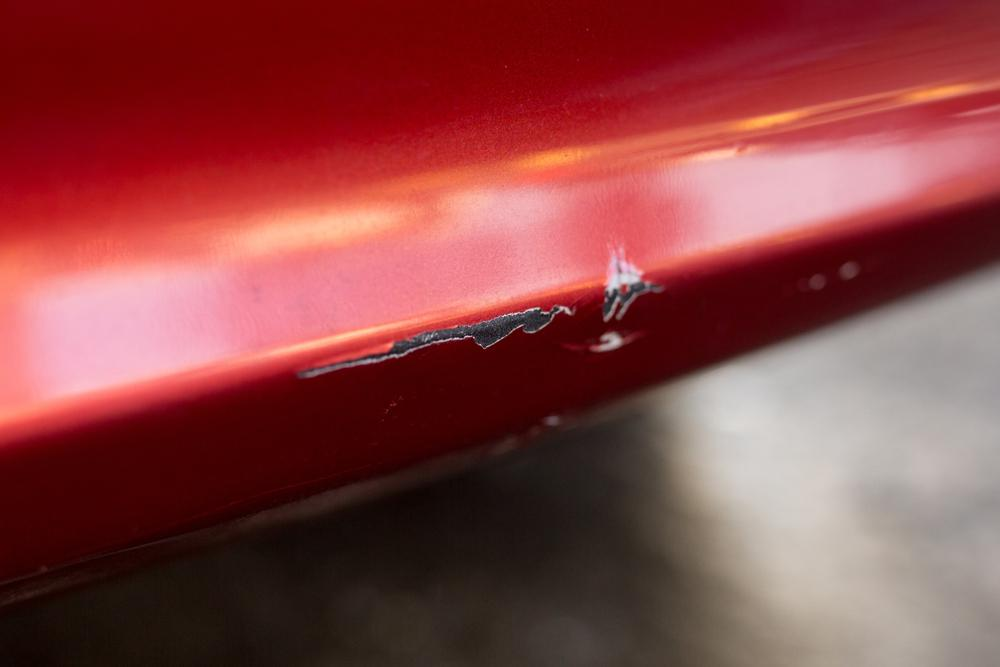scratch: (293, 237, 669, 378)
